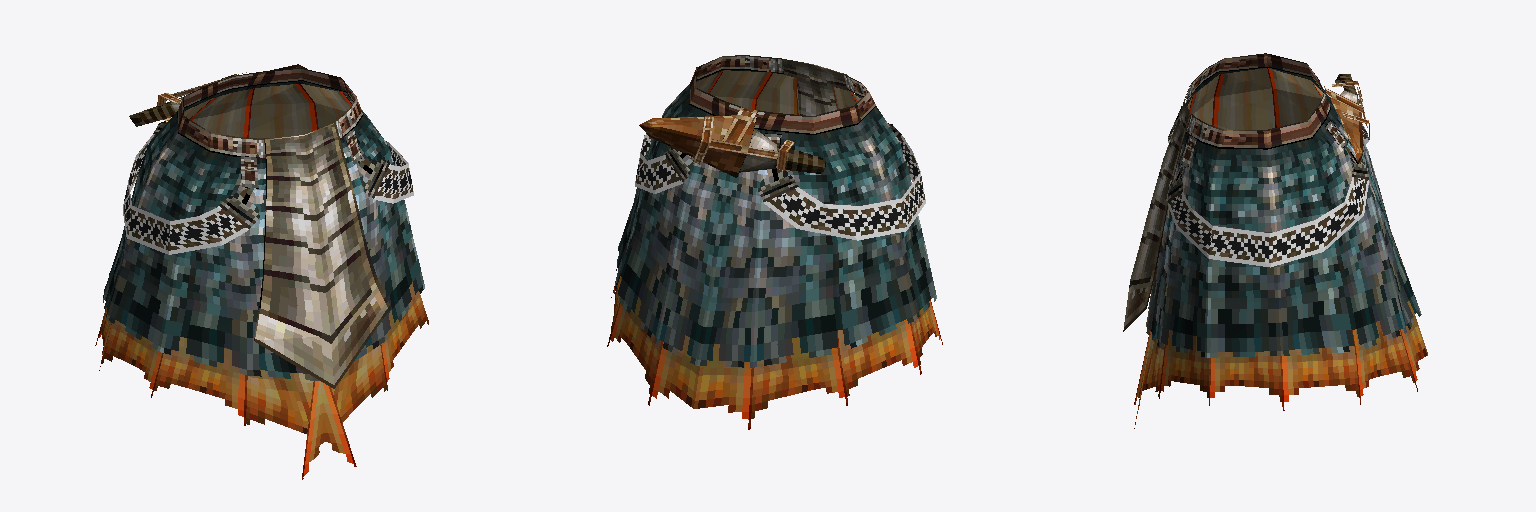
3 renders of one model, left to right at view 1: azimuth 30°, elevation 25°; view 2: azimuth 150°, elevation 25°; view 3: azimuth 270°, elevation 25°, orthographic.
Visible parts, largest first — view 1: mesh00; view 2: mesh00; view 3: mesh00.
Part boxes in pixels (bbox=[...]): mesh00: bbox=[95, 64, 428, 479]; mesh00: bbox=[607, 55, 942, 429]; mesh00: bbox=[1123, 53, 1427, 428].
Bounding box in the file's own units: 64.06 × 64.79 × 55.94.
Materials: 1 (1 with a texture image).